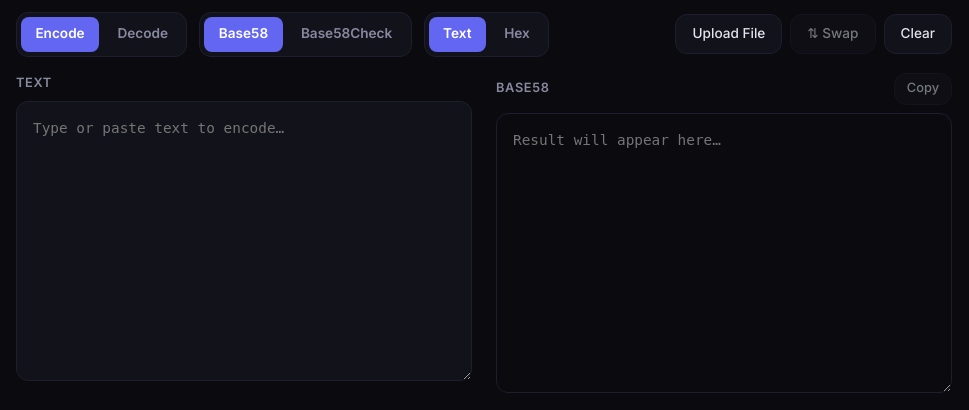
Test: Base58Tool UI & Interactions › encodes text to Base58 and Base58Check
Type "Hello World" into the text box labelled "Text" at [244, 241], box [16,101,472,381]
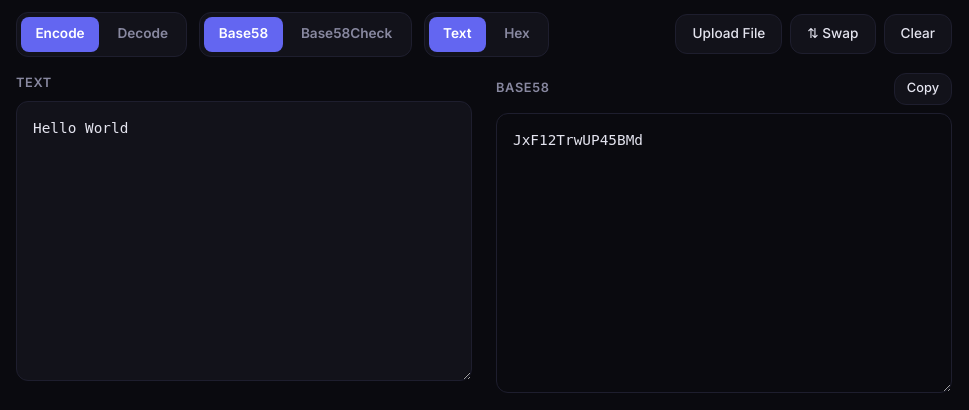
Now the text box labelled "Base58" holds "JxF12TrwUP45BMd", box [496,113,952,393]
Click the button "Base58Check" at [347, 34], box [286,17,407,52]
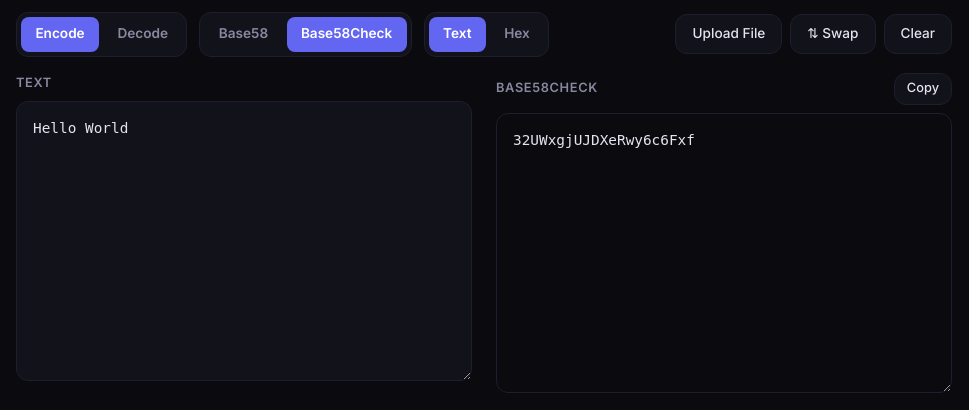
Now the text box labelled "Base58Check" does not hold "JxF12TrwUP45BMd", box [496,113,952,393]
